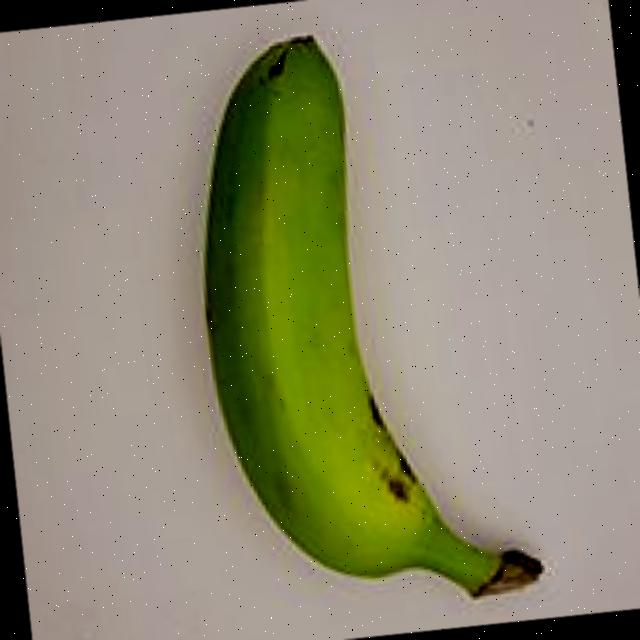Unripe: (159, 0, 565, 640)
